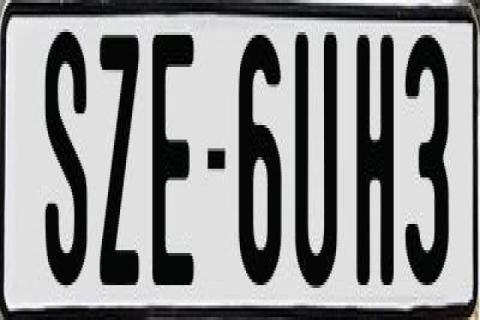0: (402, 32, 448, 294), (236, 26, 280, 288)
E: (152, 32, 194, 294)
H: (356, 32, 396, 285)
S: (44, 29, 85, 282)
U: (296, 29, 338, 285)
Z: (100, 35, 140, 285)
